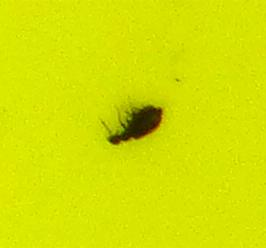Coleoptera: (100, 100, 166, 148)
